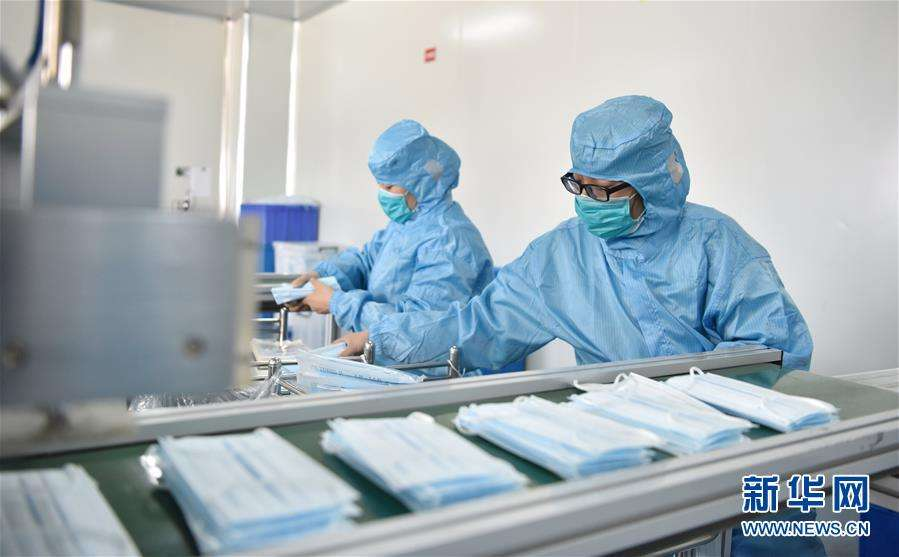with_mask: (552, 155, 662, 252), (362, 146, 450, 236)
